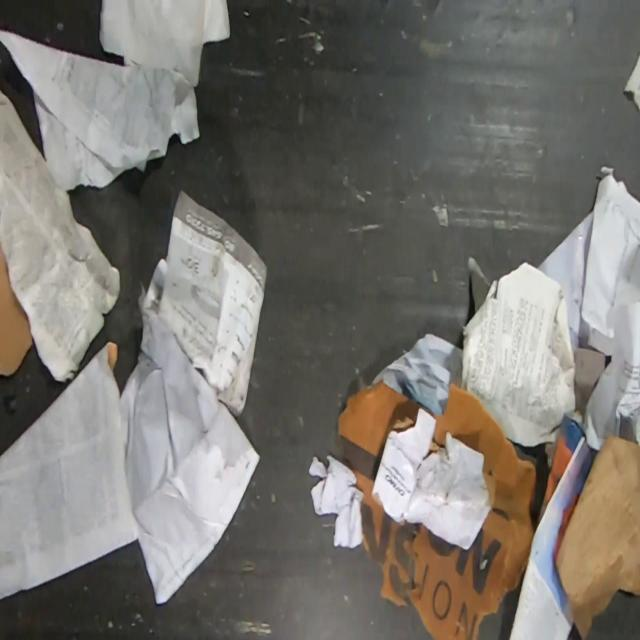cardboard: (555, 432, 640, 640), (0, 245, 33, 375)
